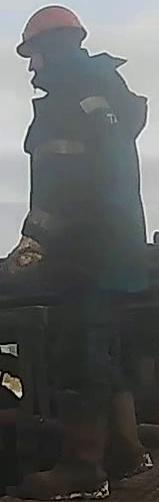gloves: (0, 221, 52, 293)
helmet: (16, 4, 89, 57)
vest: (24, 71, 149, 294)
